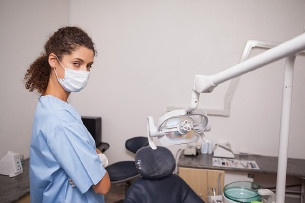Mask: (62, 55, 98, 91)
